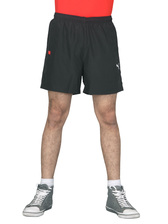clothoes: (32, 7, 128, 99)
shoes: (20, 178, 63, 219), (104, 180, 142, 219)
